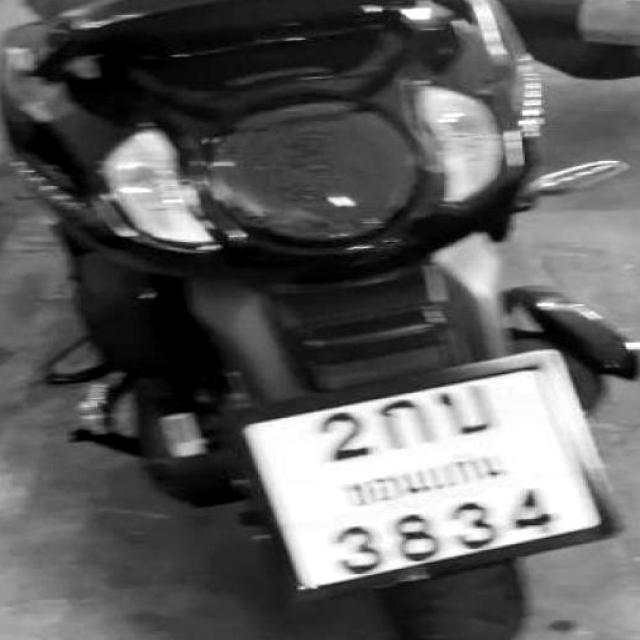letters: (378, 396, 438, 446), (318, 407, 368, 462), (397, 511, 445, 568), (439, 393, 499, 435), (447, 502, 497, 549), (337, 525, 385, 572), (509, 493, 559, 534)
license-plate: (230, 352, 610, 600)
province: (324, 466, 537, 494)
